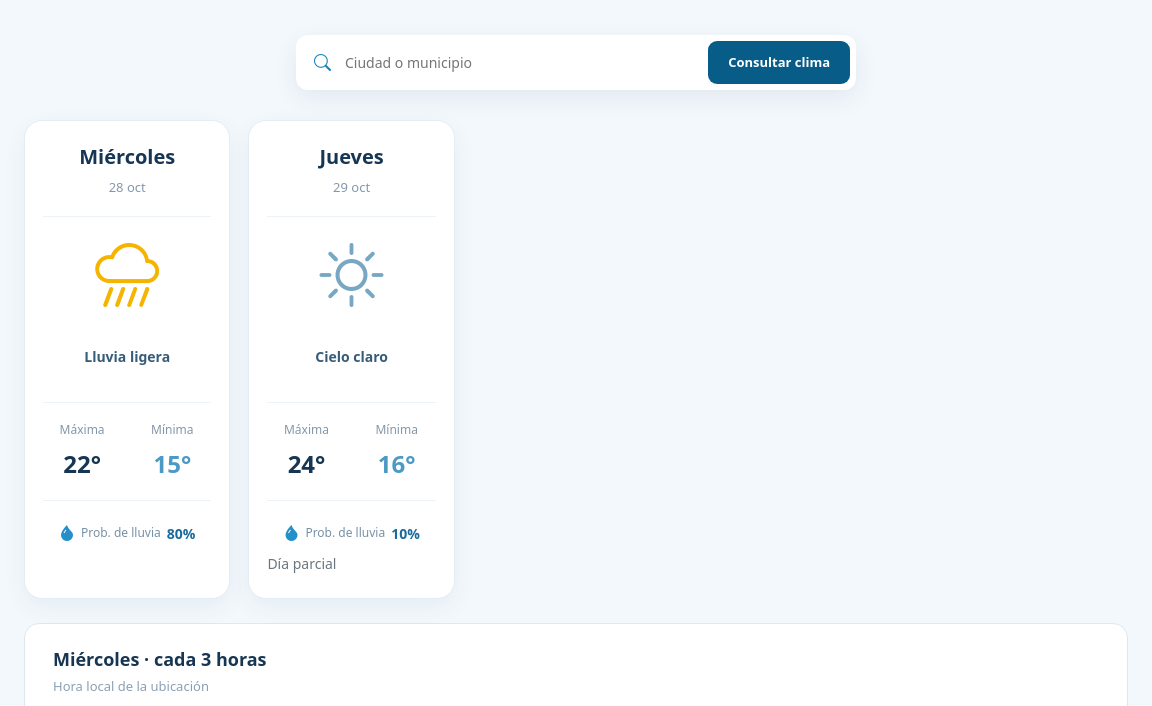
Test: M05 – pronóstico › muestra los días del contrato y los bloques del día seleccionado
(page scrolled)
Expected: the text "Lluvia ligera" is shown, [84,347,170,366]
Expected: the text "Cielo claro" is shown, [315,347,388,366]
Click the 3rd button at (352, 360), box [248,120,455,599]
(page scrolled)
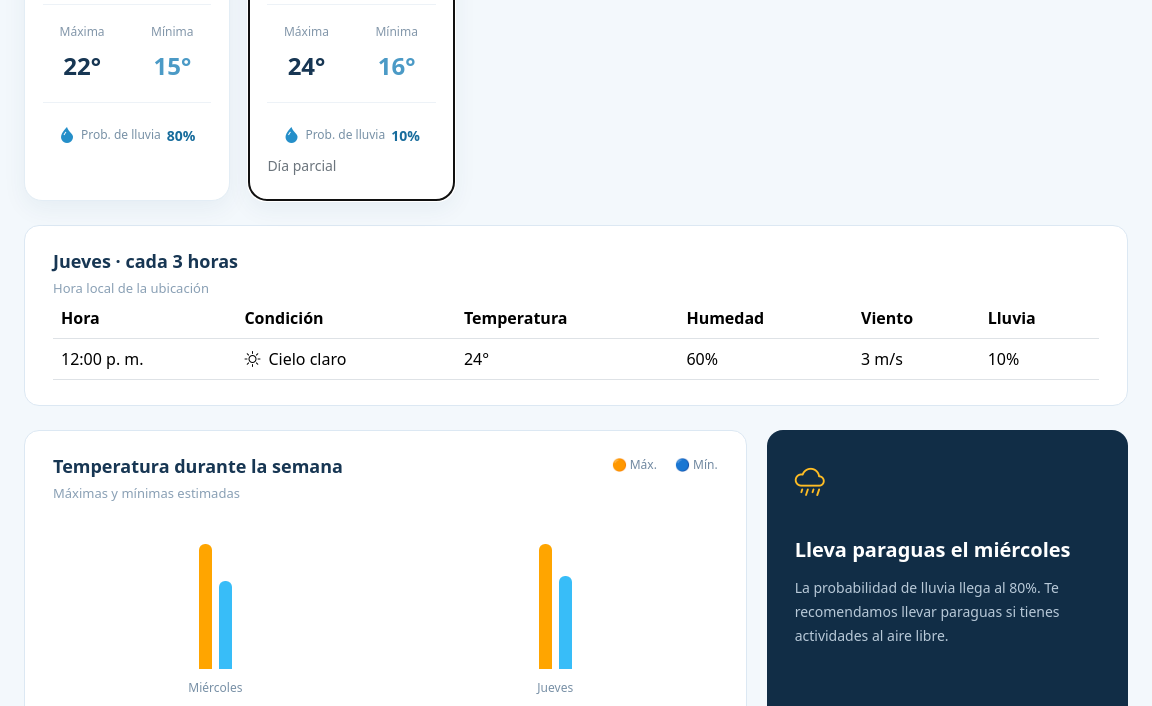
Expected: the text "60%" is shown, [678,339,853,380]
